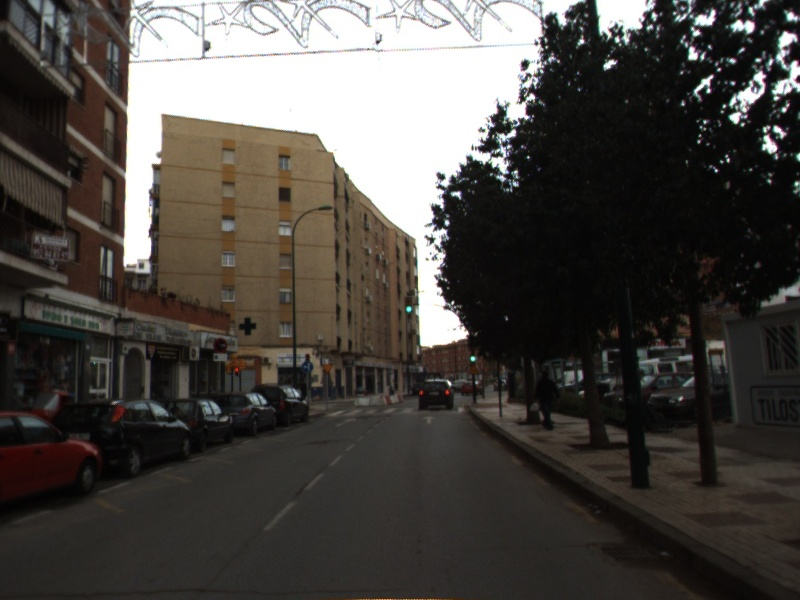STRAIGHT: (333, 416, 359, 429), (421, 414, 439, 425)
